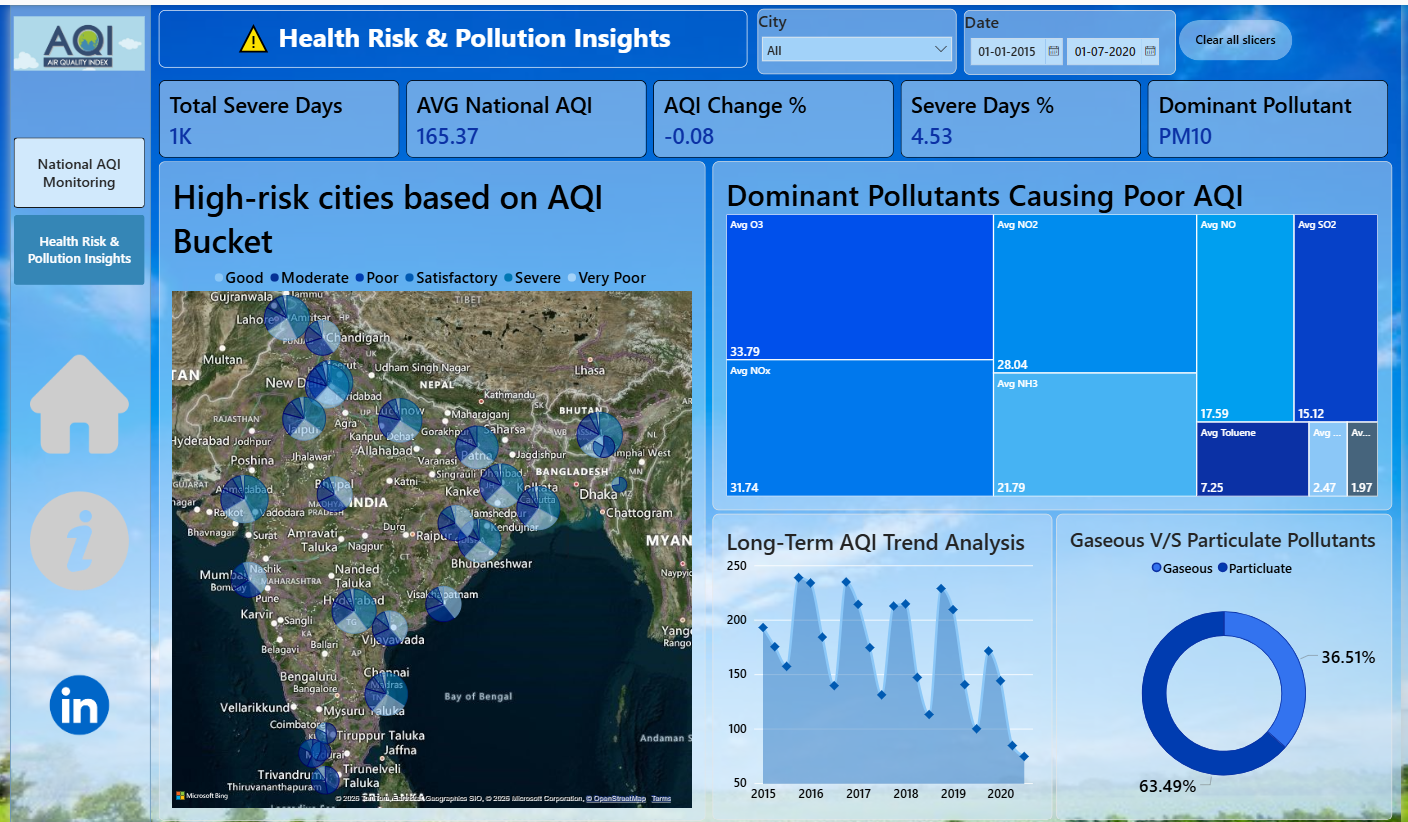

Layout of this report page (visuals, bound fields, positions):
{"tool":"powerbi","page":{"name":"Health Risk & Pollution Insights","canvas":[1700,1000],"ordinal":1},"visuals":[{"type":"cardVisual","fields":{"Data":["MeasureTable.Total Severe Days","MeasureTable.AVG AQI","MeasureTable.AQI Change %","MeasureTable.Severe Days %","MeasureTable.Dominant Pollutant"]},"box":[181.9,90.9,1506.3,95.9],"z":0},{"type":"textbox","box":[181.9,6.6,719.2,70],"z":1000},{"type":"shape","box":[0,0,172,1000.3],"z":2000},{"type":"slicer","title":"City","fields":{"Values":["Aqi_Data.City"]},"box":[912.7,5,243.1,80],"z":3000},{"type":"slicer","title":"Date","fields":{"Values":["Calender.Date"]},"box":[1165.7,6.6,259.6,79.4],"z":4000},{"type":"actionButton","box":[1428.6,18.2,138.9,49.6],"z":5000},{"type":"image","box":[4.6,11.6,160.4,69.4],"z":6000},{"type":"map","title":"High-risk cities based on AQI Bucket","fields":{"Category":["Aqi_Data.City"],"Series":["Aqi_Data.AQI_Bucket"],"Size":["MeasureTable.AVG AQI"]},"box":[181.9,190.1,668,806.9],"z":7000},{"type":"treemap","title":"Dominant Pollutants Causing Poor AQI","fields":{"Values":["Avg(Aqi_Data.CO)","Avg(Aqi_Data.NH3)","Avg(Aqi_Data.NO)","Avg(Aqi_Data.NO2)","Avg(Aqi_Data.NOx)","Avg(Aqi_Data.O3)","Avg(Aqi_Data.SO2)","Avg(Aqi_Data.Toluene)","Avg(Aqi_Data.Xylene)"]},"box":[858.1,190.1,830,426.6],"z":8000},{"type":"areaChart","title":"Long-Term AQI Trend Analysis","fields":{"Y":["MeasureTable.AVG AQI"],"Category":["Calender.Date.Variation.Date Hierarchy.Year","Calender.Date.Variation.Date Hierarchy.Quarter"]},"box":[858.1,621.7,415,375.3],"z":9000},{"type":"donutChart","title":"Gaseous V/S Particulate Pollutants","fields":{"Y":["MeasureTable.Gaseous","MeasureTable.Particluate"]},"box":[1278.1,621.7,410.1,375.3],"z":10000},{"type":"pageNavigator","box":[4.6,162,160.4,180.2],"z":11000},{"type":"image","box":[24.5,418.3,120.7,138.9],"z":12000},{"type":"image","box":[24.8,588.6,120.7,133.9],"z":13000},{"type":"image","box":[24.3,787.4,121,134.4],"z":16000}]}

Visuals, with their boxes in screenshot pixels (x1, y1, x2, y2), scaled from the page's 1700x1000 canvas onto the 1408x822 screenshot:
cardVisual - MeasureTable.Total Severe Days x MeasureTable.AVG AQI: box(151, 75, 1398, 154)
textbox: box(151, 5, 746, 63)
shape: box(0, 0, 142, 821)
"City" slicer: box(756, 4, 957, 70)
"Date" slicer: box(965, 5, 1180, 71)
actionButton: box(1183, 15, 1298, 56)
image: box(4, 10, 137, 67)
"High-risk cities based on AQI Bucket" map: box(151, 156, 704, 820)
"Dominant Pollutants Causing Poor AQI" treemap: box(711, 156, 1398, 507)
"Long-Term AQI Trend Analysis" areaChart: box(711, 511, 1054, 820)
"Gaseous V/S Particulate Pollutants" donutChart: box(1059, 511, 1398, 820)
pageNavigator: box(4, 133, 137, 281)
image: box(20, 344, 120, 458)
image: box(21, 484, 121, 594)
image: box(20, 647, 120, 758)
